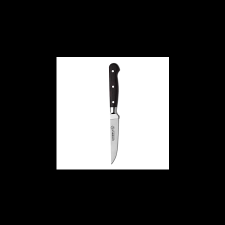k1: (107, 104, 120, 166)
